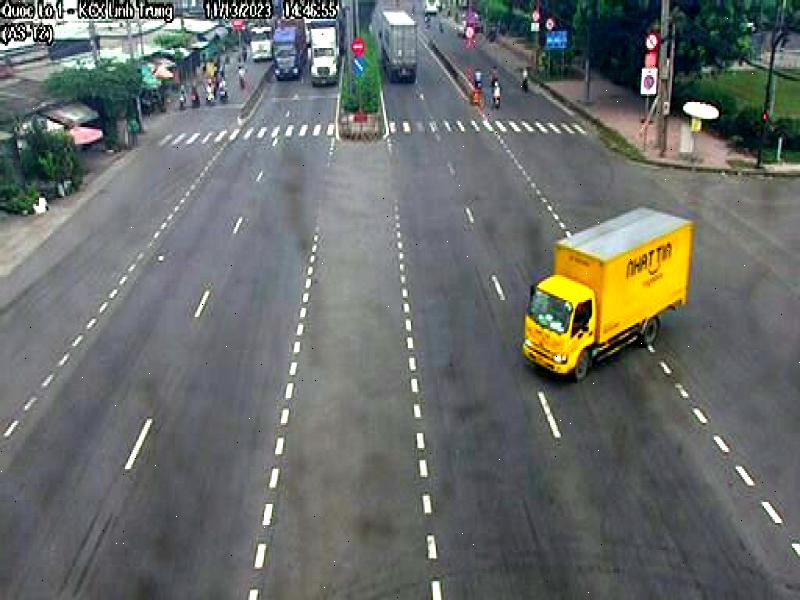truck: (520, 209, 693, 379)
